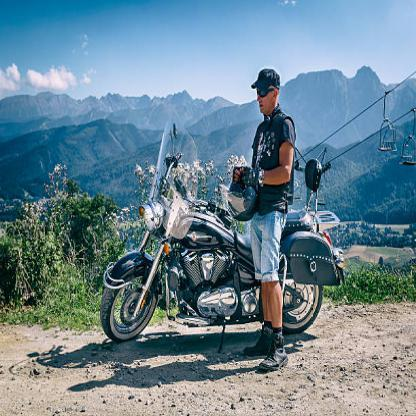Motorcycle: (96, 151, 337, 348)
